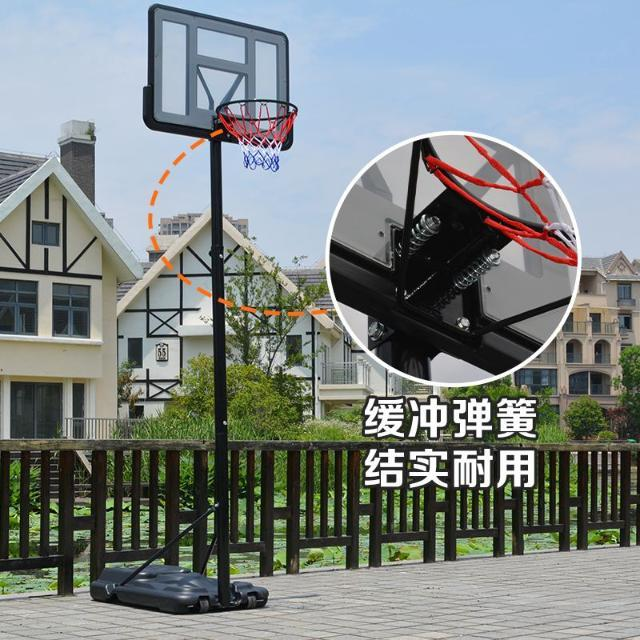rim: (215, 98, 298, 174)
